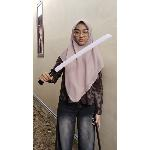Pedang: (35, 31, 117, 87)
